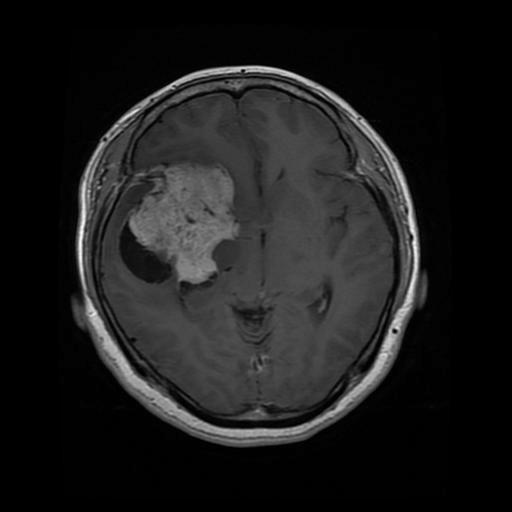Tumour-Meningioma: (127, 156, 250, 310)
